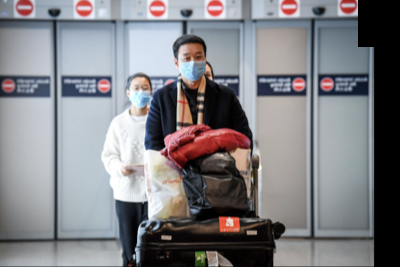with_mask: (178, 49, 207, 82), (129, 82, 151, 110)
